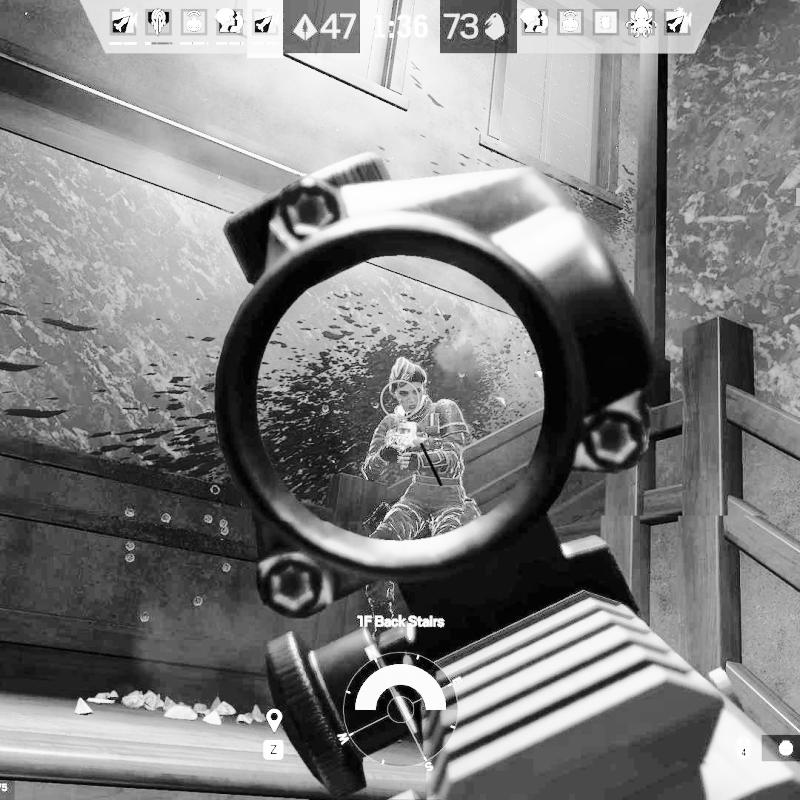Character: (362, 353, 486, 638)
Head: (389, 356, 429, 415)
